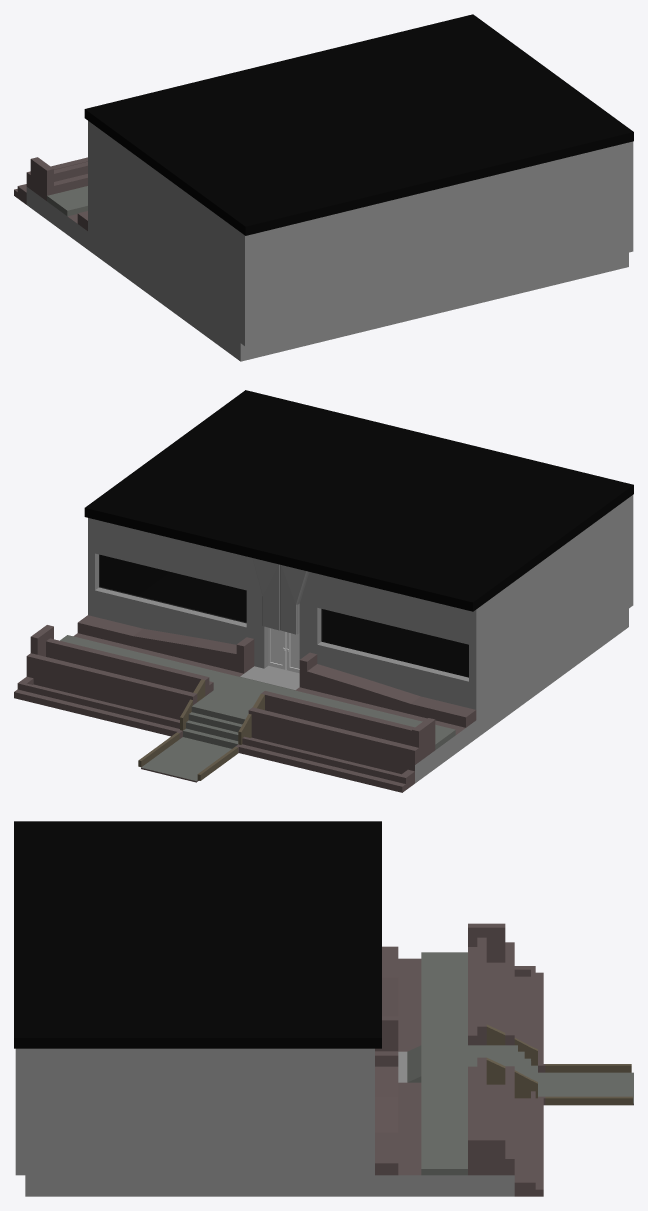
File: Condo 3.FBX
The picture shows the model from 3 angles, top to bottom: view 1: azimuth 30°, elevation 25°; view 2: azimuth 150°, elevation 25°; view 3: azimuth 270°, elevation 25°; orthographic projection. The views are drawn at different scales.
Parts seen in each view (by area): view 1: Roof, Walls, Foundation, Decor, Pathway; view 2: Roof, Walls, Decor, Pathway, Foundation, Window L, Window R, Rails, Door; view 3: Roof, Walls, Decor, Pathway, Foundation, Rails.
Boxes of the visible parts, bbox=[...] form: Roof: bbox=[84, 14, 633, 235]; Walls: bbox=[88, 121, 633, 345]; Foundation: bbox=[26, 187, 628, 361]; Decor: bbox=[14, 157, 87, 230]; Pathway: bbox=[47, 186, 87, 216]; Roof: bbox=[84, 390, 633, 611]; Walls: bbox=[88, 495, 633, 719]; Decor: bbox=[14, 615, 476, 792]; Pathway: bbox=[60, 635, 455, 780]; Foundation: bbox=[240, 609, 628, 783]; Window L: bbox=[99, 554, 246, 623]; Window R: bbox=[321, 609, 468, 677]; Rails: bbox=[138, 679, 264, 780]; Door: bbox=[268, 627, 299, 673]; Roof: bbox=[14, 821, 381, 1048]; Walls: bbox=[15, 1048, 374, 1175]; Decor: bbox=[375, 923, 633, 1196]; Pathway: bbox=[407, 952, 633, 1175]; Foundation: bbox=[25, 1051, 514, 1196]; Rails: bbox=[486, 1024, 632, 1105].
Size of the model in its own units: 866 by 298 by 1047.
